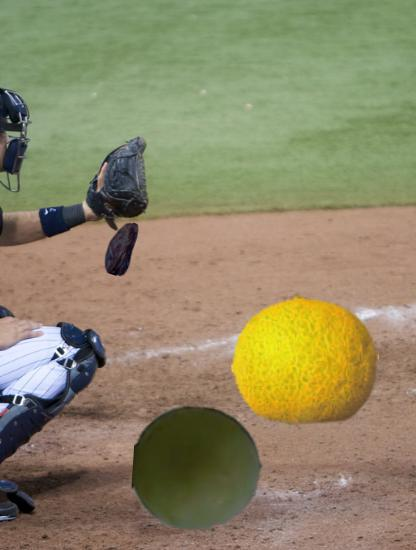Cantaloupe: (231, 285, 379, 433)
Dates: (93, 220, 150, 277)
Grape: (133, 404, 263, 534)
